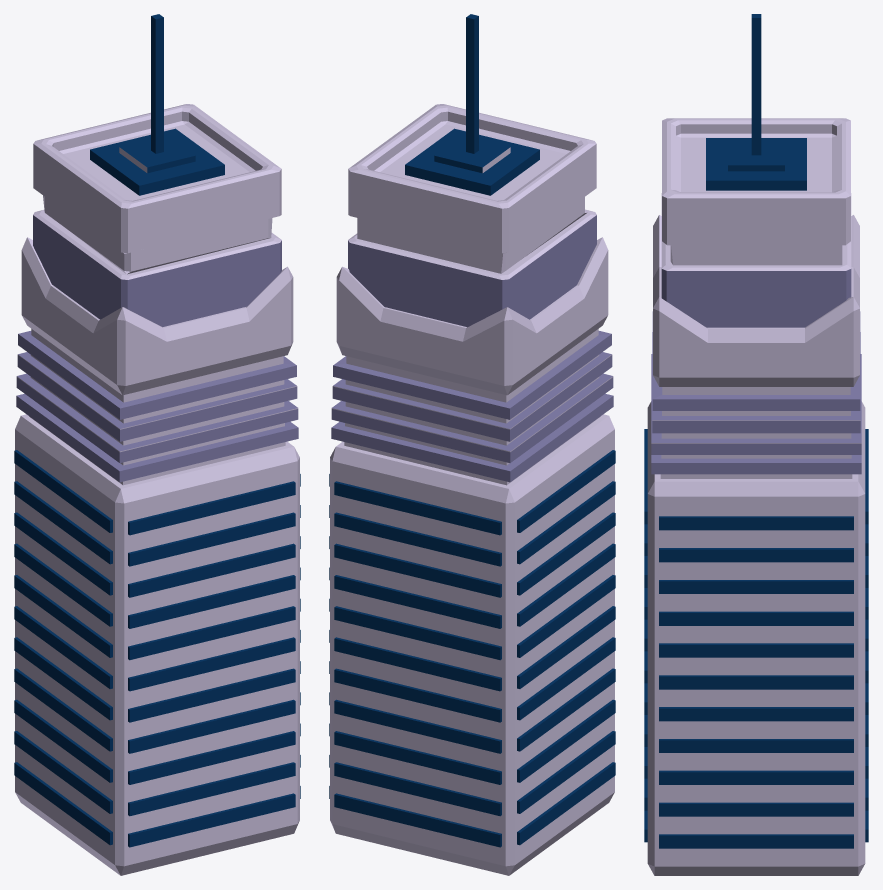
File: Building9.fbx
3 views of the same model, side by side, from view 1: azimuth 30°, elevation 25°; view 2: azimuth 150°, elevation 25°; view 3: azimuth 270°, elevation 25° (orthographic).
Parts seen in each view (by area): view 1: Cube, Cube.012, Cube.001, Cube.024, Cube.025, Cube.027, Cube.028, Cube.026, Cube.029; view 2: Cube, Cube.012, Cube.001, Cube.024, Cube.025, Cube.027, Cube.028, Cube.026, Cube.029; view 3: Cube, Cube.012, Cube.001, Cube.024, Cube.025, Cube.027, Cube.028, Cube.026, Cube.029.
Boxes of the visible parts, left/top/right/bottom form: Cube: left=15, top=237, right=299, bottom=875; Cube.012: left=14, top=450, right=300, bottom=847; Cube.001: left=33, top=104, right=281, bottom=279; Cube.024: left=33, top=215, right=281, bottom=326; Cube.025: left=90, top=14, right=224, bottom=195; Cube.027: left=17, top=352, right=297, bottom=441; Cube.028: left=16, top=373, right=298, bottom=462; Cube.026: left=18, top=331, right=296, bottom=419; Cube.029: left=16, top=393, right=298, bottom=482; Cube: left=330, top=237, right=614, bottom=875; Cube.012: left=329, top=450, right=615, bottom=847; Cube.001: left=348, top=104, right=596, bottom=279; Cube.024: left=348, top=215, right=596, bottom=327; Cube.025: left=405, top=14, right=539, bottom=195; Cube.027: left=332, top=352, right=612, bottom=441; Cube.028: left=331, top=373, right=613, bottom=462; Cube.026: left=333, top=331, right=611, bottom=419; Cube.029: left=331, top=393, right=613, bottom=482; Cube: left=647, top=215, right=865, bottom=875; Cube.012: left=644, top=429, right=868, bottom=848; Cube.001: left=661, top=118, right=851, bottom=270; Cube.024: left=661, top=269, right=851, bottom=327; Cube.025: left=706, top=14, right=806, bottom=190; Cube.027: left=652, top=332, right=860, bottom=433; Cube.028: left=651, top=354, right=861, bottom=454; Cube.026: left=652, top=311, right=860, bottom=410; Cube.029: left=651, top=455, right=861, bottom=474.
Bounding box in the file's own units: 640 × 2568 × 640.
